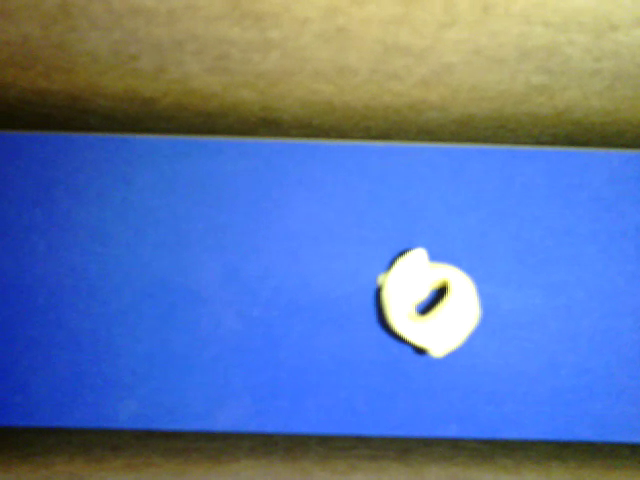tortellini: (379, 247, 480, 358)
